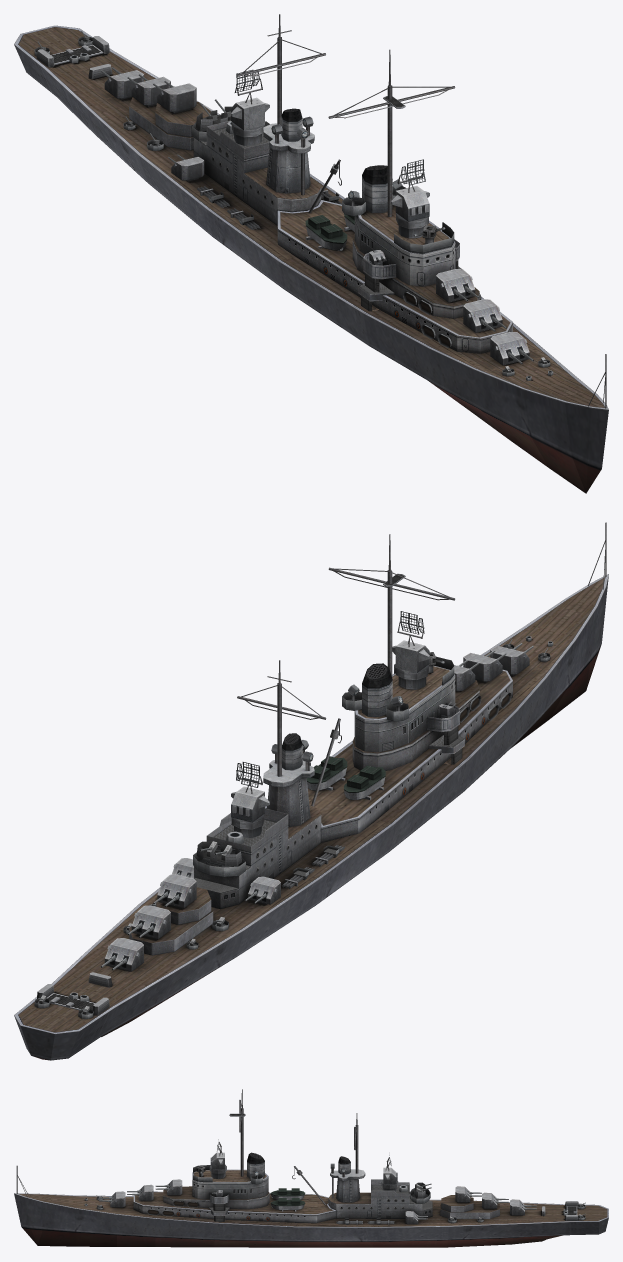
Rendered from Atlanta.fbx.
3 views of the same model, one above another, from view 1: azimuth 30°, elevation 25°; view 2: azimuth 150°, elevation 25°; view 3: azimuth 270°, elevation 25° (orthographic). The views are drawn at different scales.
Parts seen in each view (by area): view 1: body, M_Cannon01, M_Cannon02, M_Cannon03, M_Cannon06, M_Cannon04, M_Cannon05, M_Cannon08; view 2: body, M_Cannon06, M_Cannon05, M_Cannon04, M_Cannon02, M_Cannon01, M_Cannon08; view 3: body, M_Cannon03, M_Cannon06, M_Cannon01, M_Cannon04.
Part boxes in pixels (x1=…): body: x1=14, y1=14, x2=608, y2=493; M_Cannon01: x1=490, y1=332, x2=529, y2=365; M_Cannon02: x1=463, y1=299, x2=502, y2=332; M_Cannon03: x1=436, y1=269, x2=475, y2=302; M_Cannon06: x1=157, y1=83, x2=196, y2=112; M_Cannon04: x1=104, y1=70, x2=143, y2=98; M_Cannon05: x1=131, y1=76, x2=170, y2=105; M_Cannon08: x1=171, y1=157, x2=204, y2=180; body: x1=14, y1=522, x2=608, y2=1060; M_Cannon06: x1=157, y1=874, x2=196, y2=907; M_Cannon05: x1=131, y1=905, x2=170, y2=939; M_Cannon04: x1=104, y1=938, x2=143, y2=971; M_Cannon02: x1=463, y1=653, x2=502, y2=681; M_Cannon01: x1=490, y1=645, x2=529, y2=674; M_Cannon08: x1=248, y1=876, x2=280, y2=904; body: x1=14, y1=1089, x2=608, y2=1247; M_Cannon03: x1=167, y1=1179, x2=182, y2=1195; M_Cannon06: x1=455, y1=1186, x2=470, y2=1202; M_Cannon01: x1=110, y1=1191, x2=125, y2=1207; M_Cannon04: x1=510, y1=1199, x2=524, y2=1215.
Size of the model in its own units: 20.92 by 48.41 by 165.
Materials: 1 (1 with a texture image).
